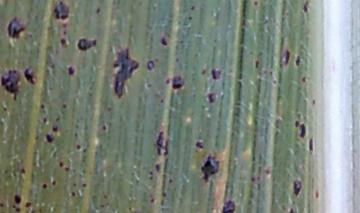tarspot: (110, 46, 142, 98), (1, 67, 23, 102), (200, 153, 220, 182), (4, 17, 28, 40), (153, 130, 171, 158), (52, 1, 71, 22), (164, 74, 186, 90), (75, 37, 98, 52), (292, 119, 307, 140), (23, 66, 36, 87), (219, 198, 237, 213), (291, 178, 302, 196), (205, 91, 218, 105), (210, 67, 222, 82), (282, 47, 291, 67), (145, 58, 155, 73), (65, 64, 75, 77), (194, 140, 205, 151), (44, 132, 54, 144), (159, 35, 168, 48), (302, 1, 311, 14), (293, 54, 301, 67), (12, 194, 22, 204), (59, 37, 68, 48), (253, 59, 261, 71), (154, 161, 162, 173), (308, 137, 314, 152), (50, 178, 58, 188), (40, 182, 48, 191), (263, 167, 271, 176), (60, 21, 68, 30), (32, 134, 41, 142), (101, 122, 108, 132), (248, 175, 255, 185), (51, 125, 59, 133), (147, 197, 155, 205), (199, 68, 207, 76), (94, 6, 101, 15), (158, 96, 165, 105), (144, 82, 153, 89), (190, 3, 197, 12), (271, 78, 278, 87), (314, 188, 319, 200), (102, 191, 108, 201), (19, 166, 26, 174), (24, 201, 32, 208), (57, 160, 64, 168), (147, 169, 155, 176), (256, 174, 262, 183), (174, 56, 180, 65), (262, 16, 268, 25), (300, 76, 307, 83), (81, 182, 88, 189), (75, 143, 82, 150), (187, 14, 194, 21), (150, 4, 157, 11), (287, 207, 295, 213), (13, 207, 21, 213), (147, 175, 155, 181), (190, 93, 198, 99), (72, 131, 77, 140), (127, 204, 132, 213), (61, 102, 67, 109), (70, 190, 76, 197), (252, 1, 259, 7), (167, 177, 174, 183), (161, 190, 167, 197), (262, 68, 268, 75), (98, 203, 105, 209), (42, 116, 47, 124), (1, 106, 9, 111), (310, 98, 315, 106), (268, 70, 273, 78), (10, 204, 16, 210), (63, 166, 69, 172), (257, 50, 263, 56), (248, 50, 254, 56), (105, 106, 112, 111), (40, 102, 44, 110), (54, 117, 60, 122), (61, 30, 67, 35), (72, 182, 76, 189), (1, 202, 5, 207)
